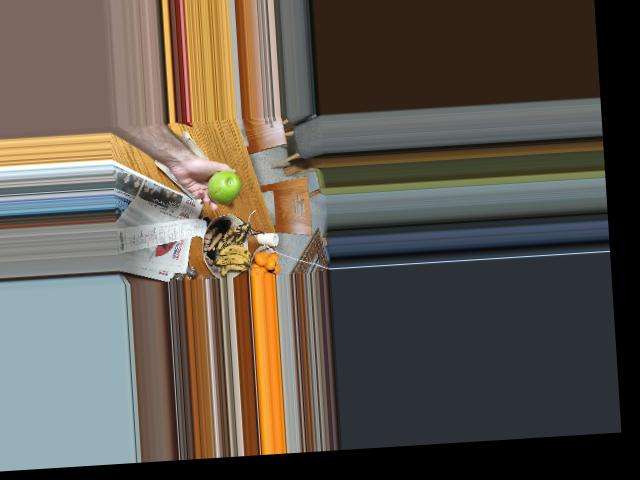apple: (205, 169, 241, 204)
